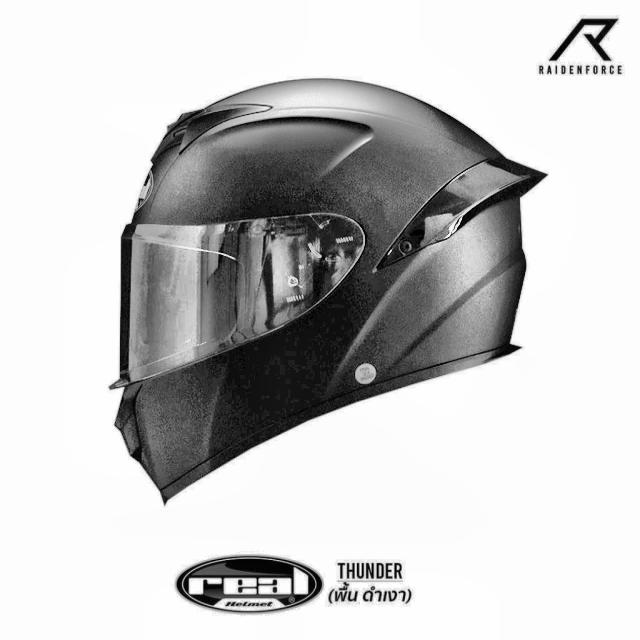Helmet: (109, 73, 556, 510)
